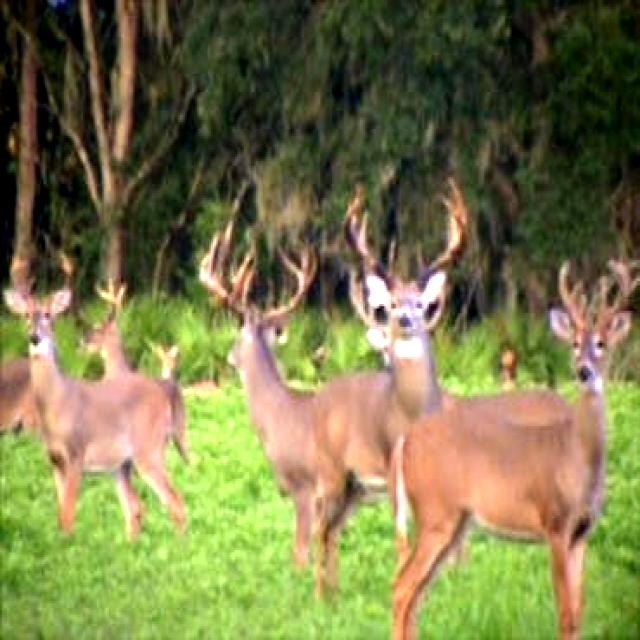deer: (202, 199, 316, 392), (540, 229, 624, 413), (359, 228, 445, 366), (3, 262, 71, 390), (71, 267, 131, 382)
